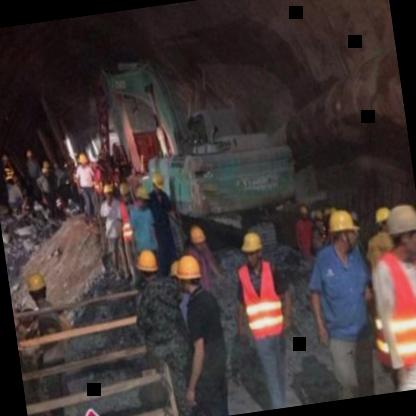helmet: (383, 201, 416, 260), (324, 204, 360, 256), (168, 252, 204, 296), (136, 242, 162, 288), (238, 224, 266, 266), (25, 271, 49, 305), (131, 184, 153, 214), (188, 221, 210, 251), (117, 178, 134, 206), (151, 170, 165, 194)
